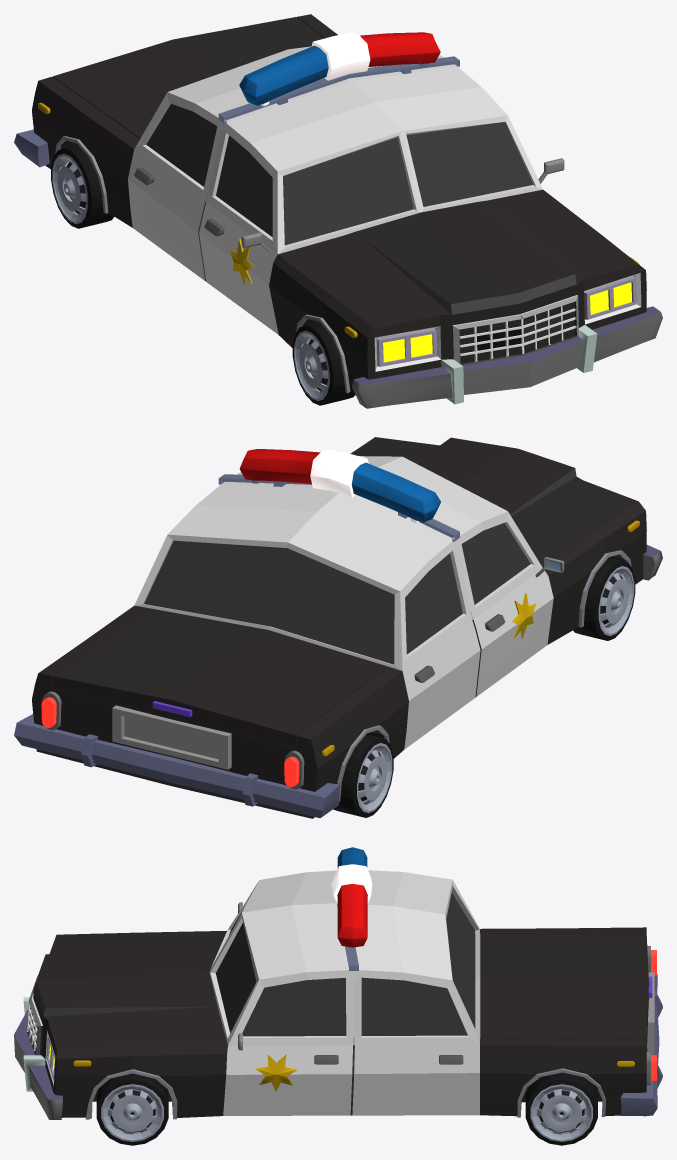
The model's file is police-car.glb.
3 renders of one model, top to bottom at view 1: azimuth 30°, elevation 25°; view 2: azimuth 150°, elevation 25°; view 3: azimuth 270°, elevation 25°, orthographic. The views are drawn at different scales.
Parts seen in each view (by area): view 1: Cube_2, Cube.011_18, Cube.013_20, Cylinder.003_25, Cylinder.001_23, Cube.012_19, Cube.015_21, Cube.009_17, Cube.005_7; view 2: Cube_2, Cube.009_17, Cube.013_20, Cube.007_9, Cylinder.003_25, Cylinder.001_23, Circle.001_48, Cube.015_21; view 3: Cube_2, Cylinder.002_24, Cylinder.006_14, Cube.013_20, Cube.011_18, Cube.009_17, Star.001_26, Circle.001_48, Cube.007_9, Cube.003_5.
Boxes of the visible parts, box(x1,y1,x2,y2) form: Cube_2: box(32, 14, 646, 395); Cube.011_18: box(352, 306, 662, 408); Cube.013_20: box(239, 32, 440, 106); Cylinder.003_25: box(51, 145, 114, 228); Cylinder.001_23: box(292, 322, 354, 405); Cube.012_19: box(377, 276, 636, 366); Cube.015_21: box(218, 56, 459, 123); Cube.009_17: box(14, 129, 49, 167); Cube.005_7: box(241, 158, 564, 252); Cube_2: box(32, 437, 646, 818); Cube.009_17: box(14, 714, 339, 818); Cube.013_20: box(239, 449, 440, 523); Cube.007_9: box(112, 705, 231, 769); Cylinder.003_25: box(333, 734, 393, 817); Cylinder.001_23: box(573, 557, 635, 640); Circle.001_48: box(41, 691, 304, 789); Cube.015_21: box(218, 474, 459, 541); Cube_2: box(26, 870, 648, 1119); Cylinder.002_24: box(525, 1072, 597, 1145); Cylinder.006_14: box(96, 1073, 168, 1145); Cube.013_20: box(331, 847, 372, 947); Cube.011_18: box(14, 997, 62, 1119); Cube.009_17: box(620, 974, 662, 1115); Star.001_26: box(255, 1054, 297, 1091); Circle.001_48: box(646, 946, 656, 1085); Cube.007_9: box(647, 972, 654, 1052); Cube.003_5: box(314, 1055, 463, 1064).
Bounding box in the file's own units: 7.45 × 5.23 × 14.71.
